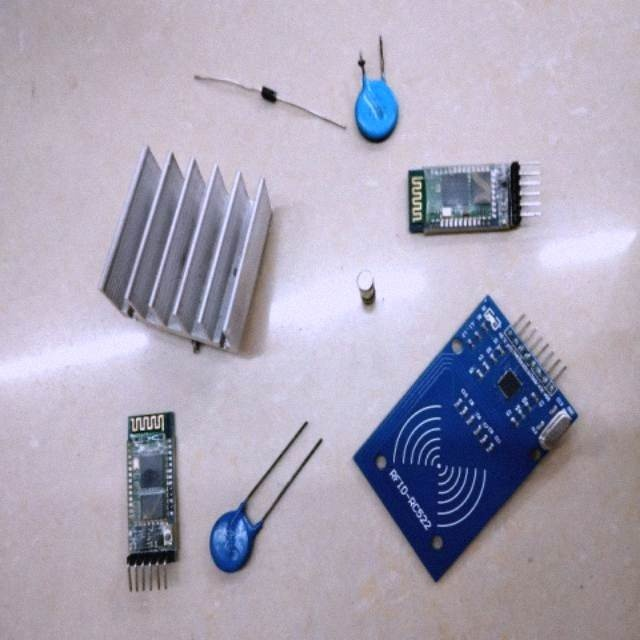capacitor: (210, 510, 257, 573), (355, 80, 399, 143)
